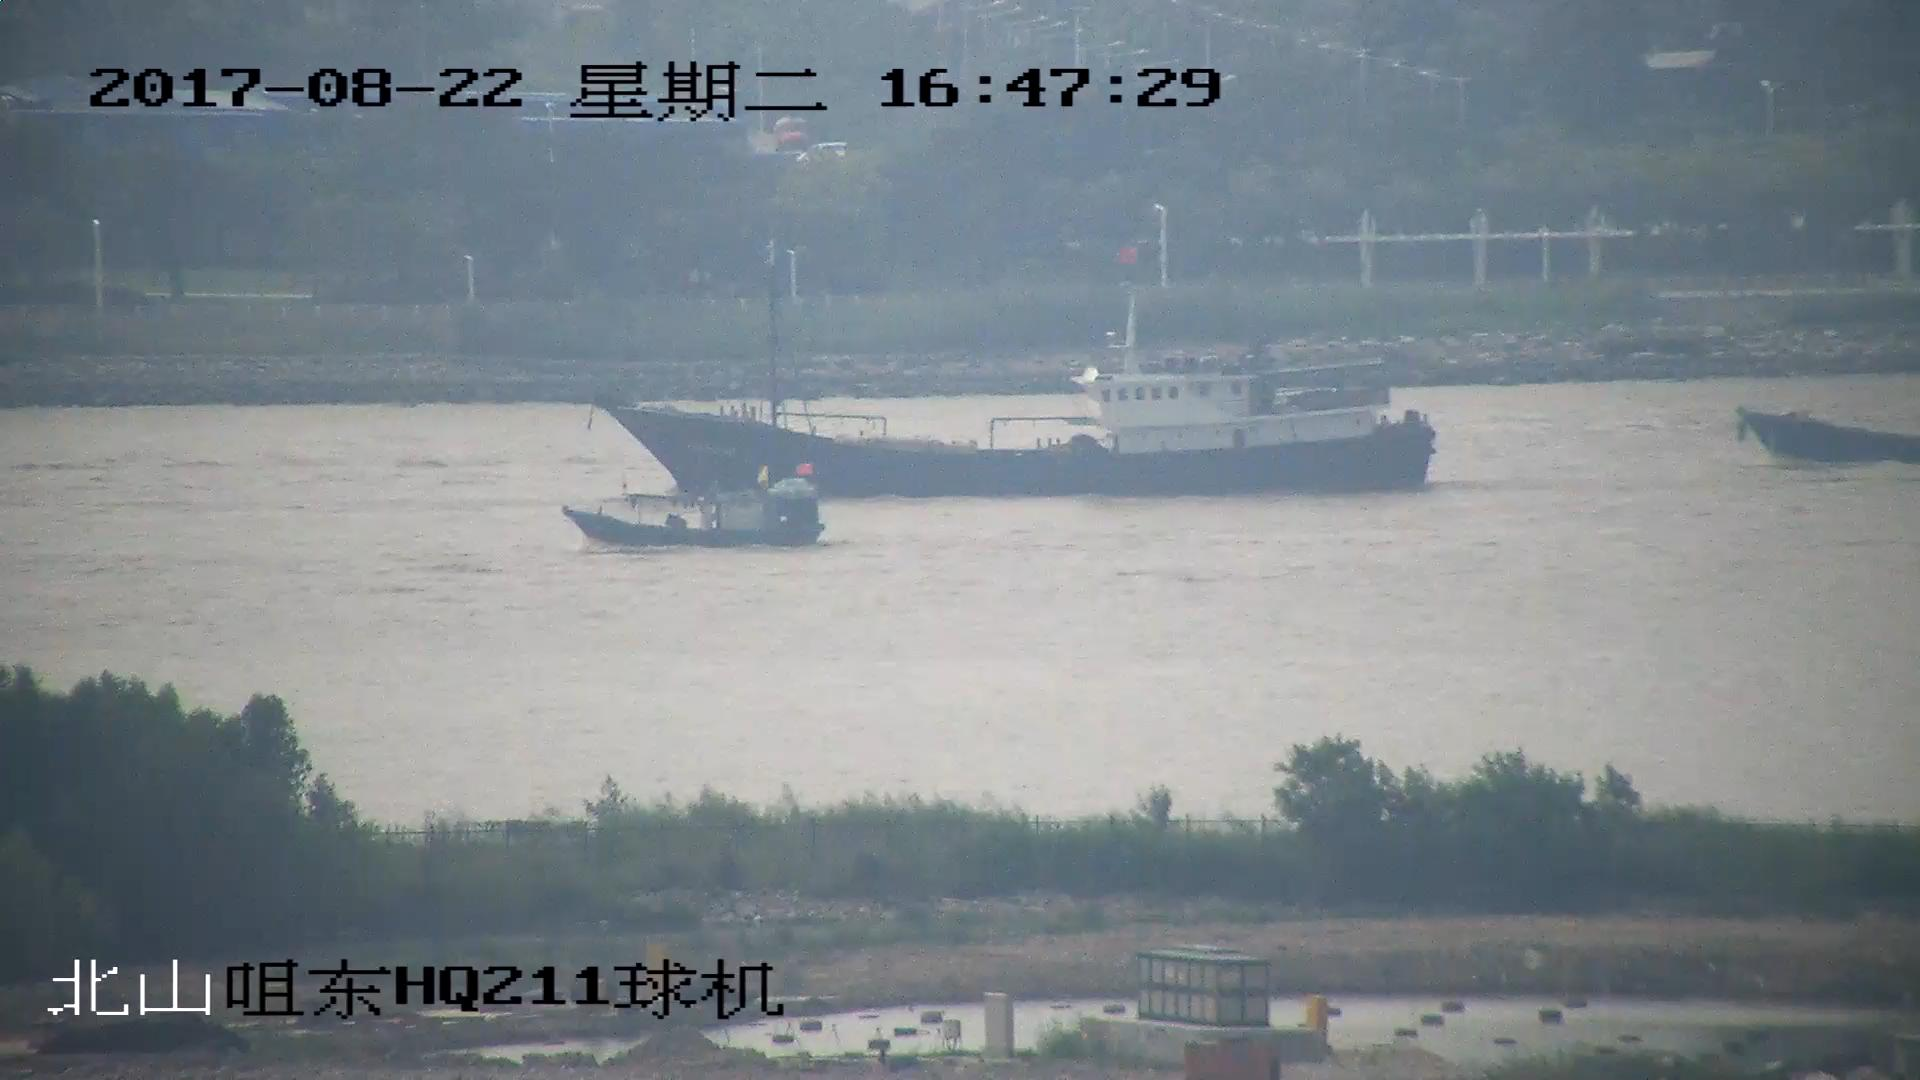fishing boat: (601, 244, 1442, 499), (570, 464, 827, 538), (1729, 399, 1920, 467)
